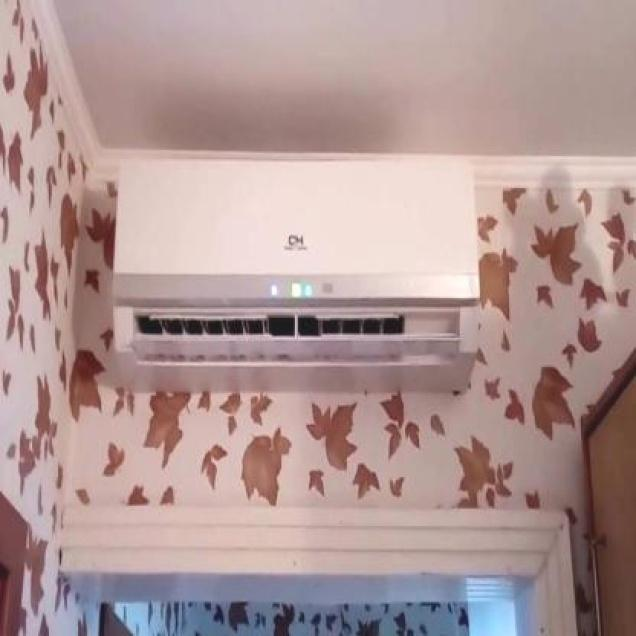AC: (111, 155, 481, 392)
